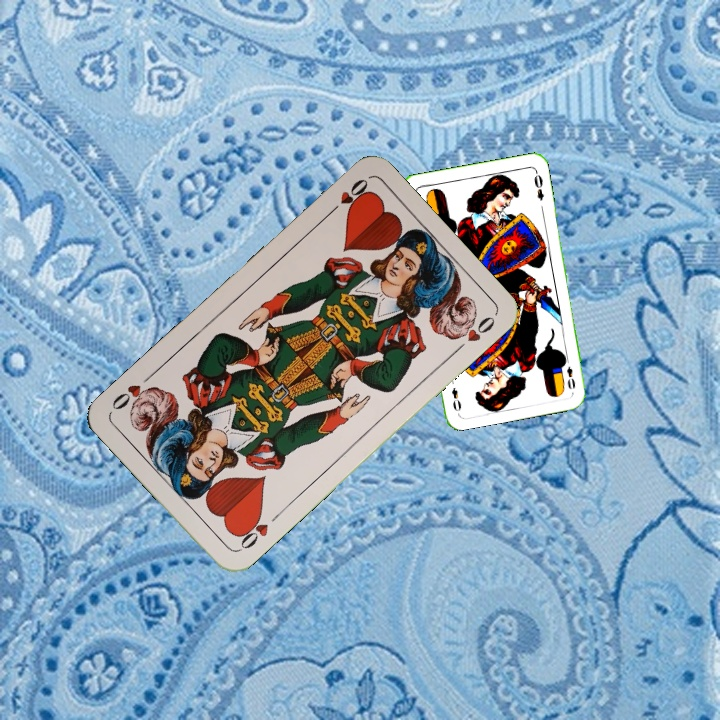EO: (560, 353, 578, 392)
HO: (233, 508, 283, 554), (323, 174, 371, 219)
